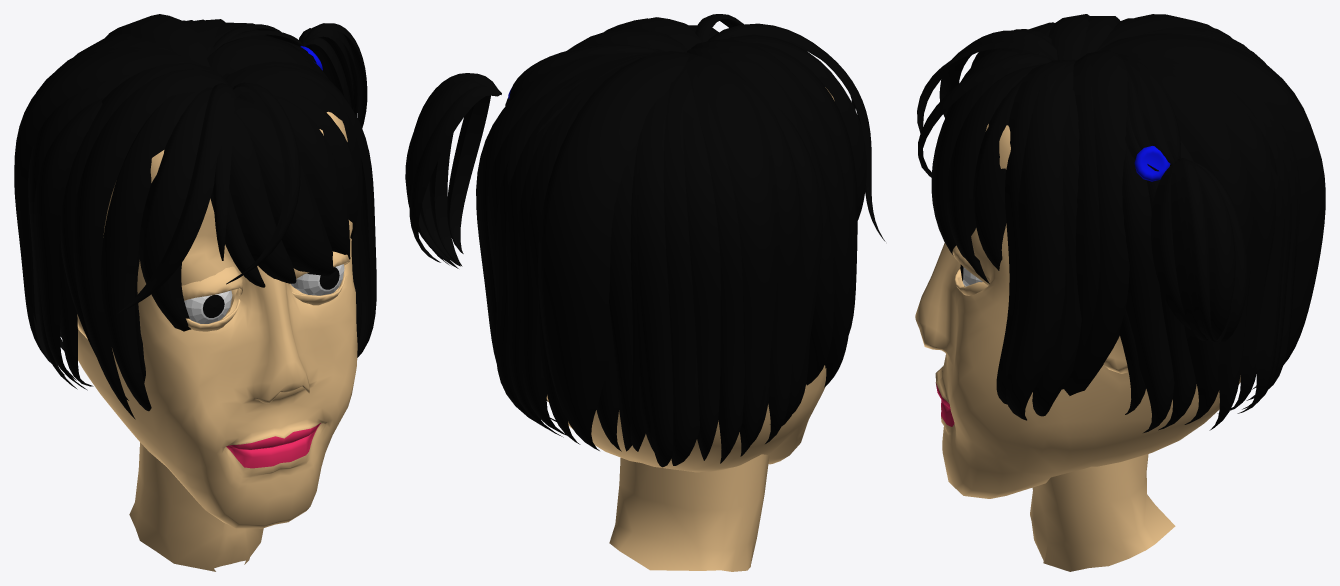
File: head2.fbx
3 renders of one model, left to right at view 1: azimuth 30°, elevation 25°; view 2: azimuth 150°, elevation 25°; view 3: azimuth 270°, elevation 25°, orthographic. The views are drawn at different scales.
Visible parts, largest first — view 1: Hair-female, Face.005, Body.010, Eye.009, Eye1.012, Eye2.012, Eye2.013; view 2: Hair-female, Body.010, Face.005; view 3: Hair-female, Face.005, Body.010, fastener.
Part boxes in pixels (left/top/right/bottom): Hair-female: left=14, top=14, right=376, bottom=419; Face.005: left=77, top=111, right=357, bottom=528; Body.010: left=129, top=442, right=263, bottom=571; Eye.009: left=184, top=264, right=344, bottom=323; Eye1.012: left=181, top=266, right=242, bottom=300; Eye2.012: left=186, top=289, right=240, bottom=331; Eye2.013: left=292, top=265, right=346, bottom=305; Hair-female: left=405, top=14, right=885, bottom=467; Body.010: left=609, top=454, right=769, bottom=571; Face.005: left=546, top=87, right=834, bottom=472; Hair-female: left=917, top=14, right=1325, bottom=432; Face.005: left=915, top=124, right=1240, bottom=498; Body.010: left=1030, top=454, right=1175, bottom=571; fastener: left=1134, top=146, right=1170, bottom=181.
Bounding box in the file's own units: 41.8 × 55.72 × 39.93.
